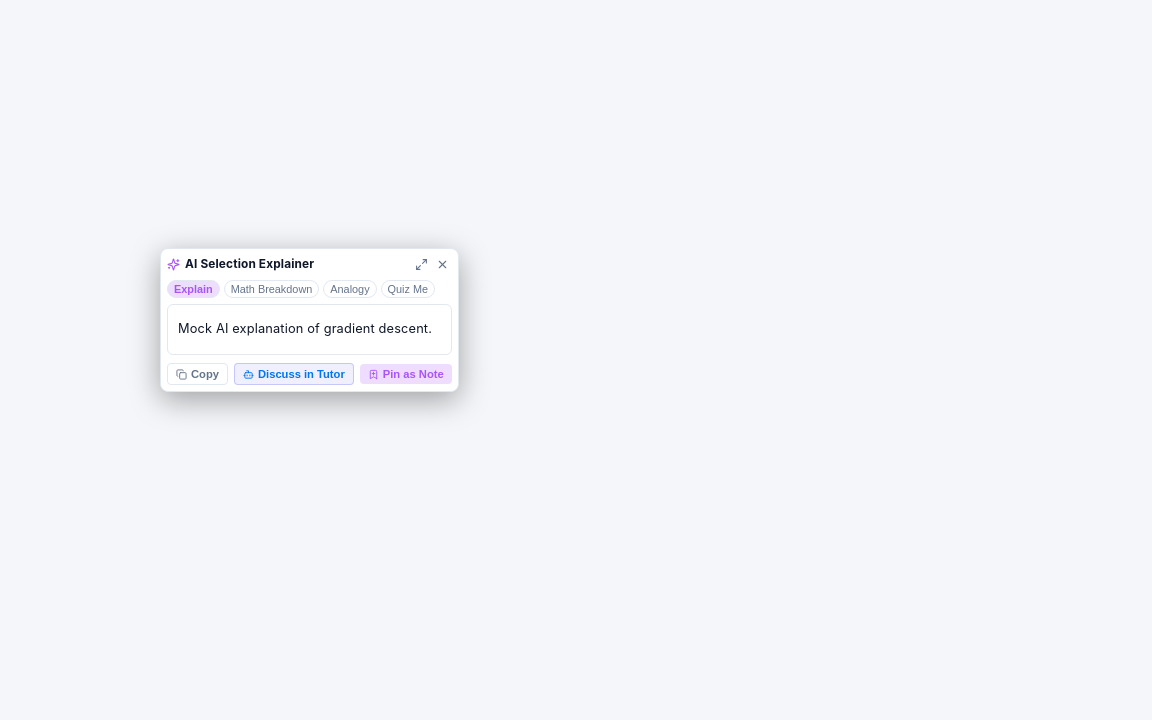
Test: TextSelectionToolbar - AI Explainer Expand Button › toggles expansion state when clicking expand and collapse button
The width and height of the screenshot is (1152, 720).
Expected: the text "Mock AI explanation of gradient descent." is shown, x1=178 y1=319 x2=441 y2=340
Click to Expand
Click the button named "Expand explainer": (421,264) x1=412 y1=255 x2=431 y2=274
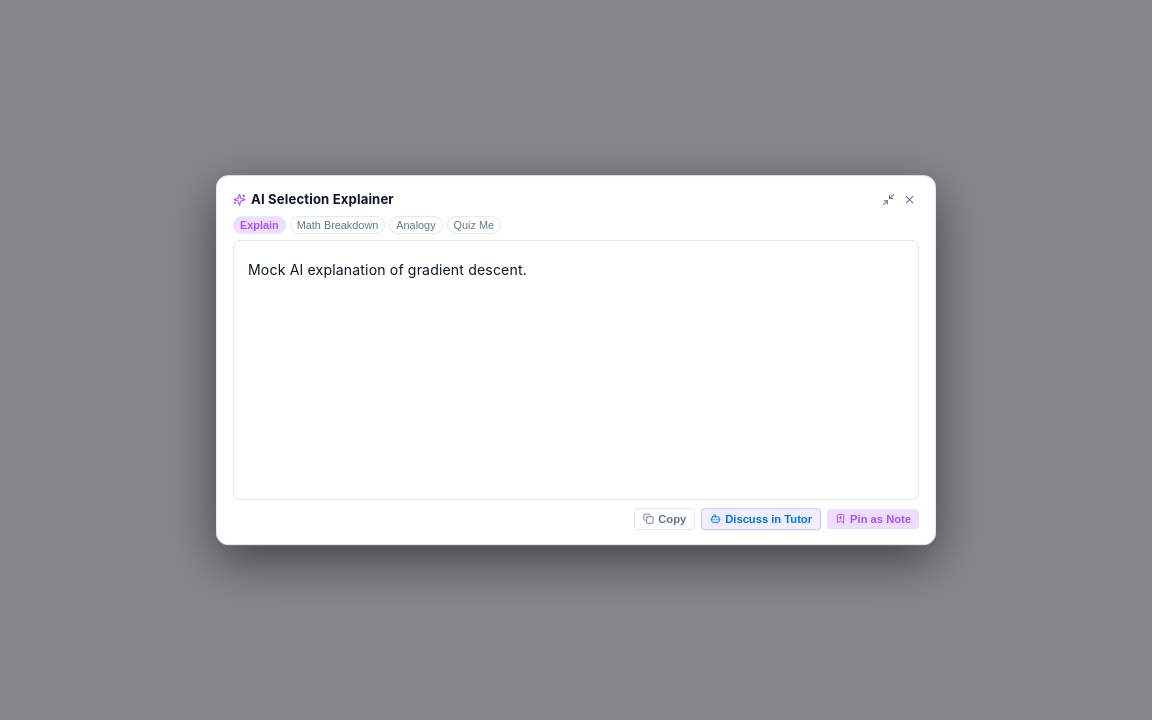
Expected: the element with class "ai-explainer-backdrop" is shown
Expected: the button named "Collapse explainer" is shown
Click to Collapse
Click the button named "Collapse explainer": (888,200) x1=879 y1=190 x2=898 y2=210
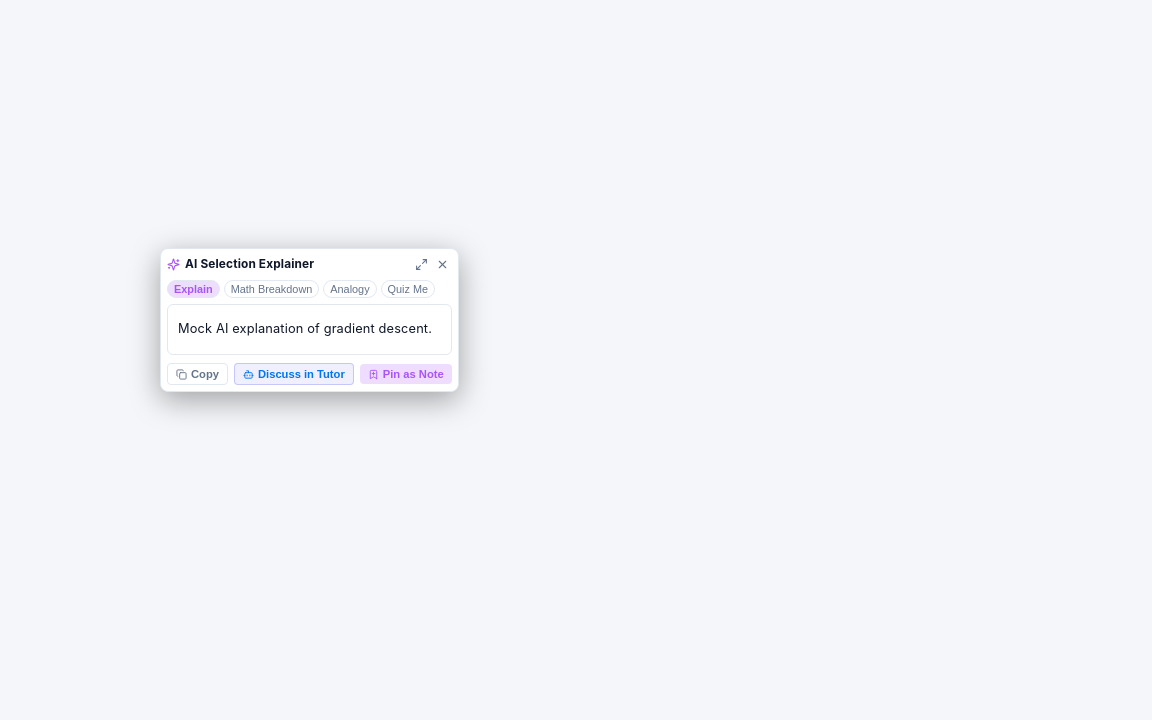
Expected: the element with class "ai-explainer-backdrop" is gone
Expected: the button named "Expand explainer" is shown, x1=412 y1=255 x2=431 y2=274
